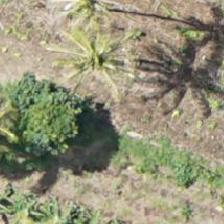coconut_tree: (52, 24, 142, 114), (45, 0, 135, 48)
